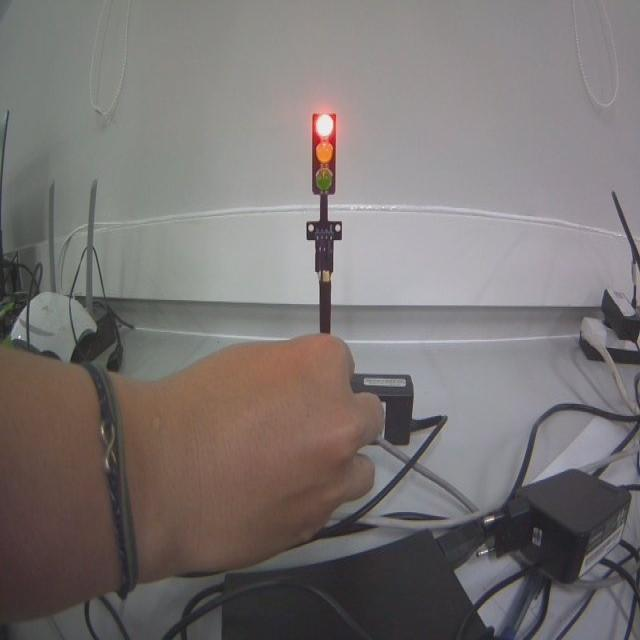Lampu Merah: (310, 112, 337, 195)
